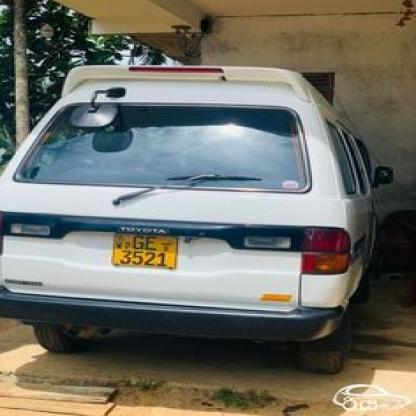number plate: (110, 231, 171, 270)
van back: (0, 62, 400, 378)
